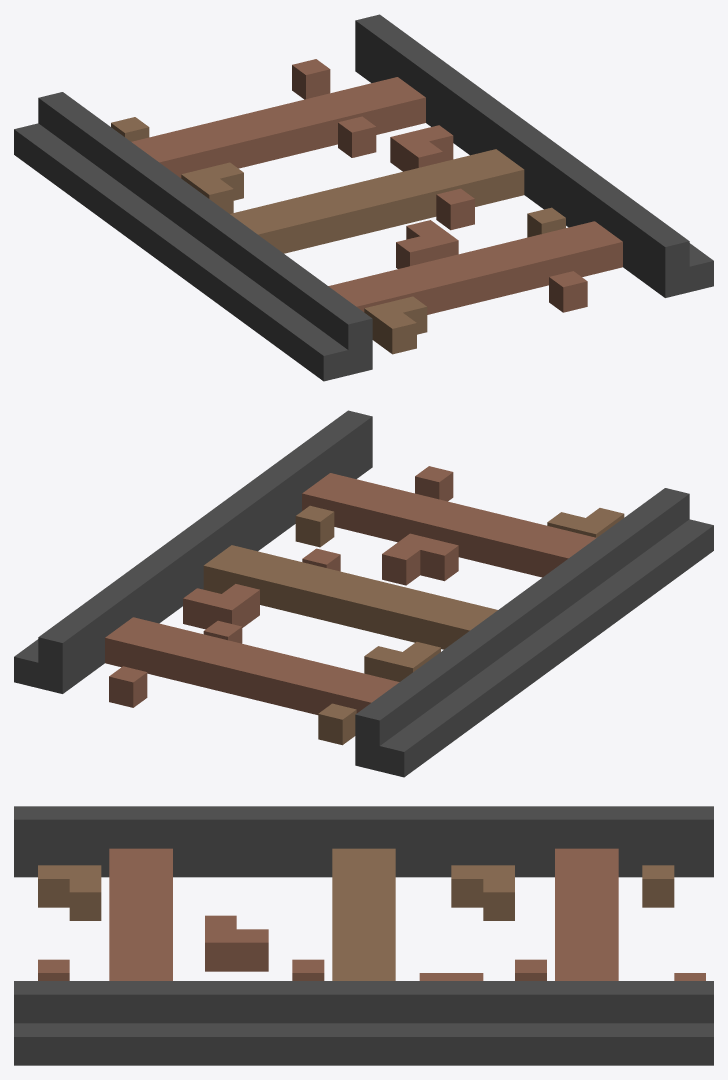
The model's file is RailStraight.fbx.
3 views of the same model, one above another, from view 1: azimuth 30°, elevation 25°; view 2: azimuth 150°, elevation 25°; view 3: azimuth 270°, elevation 25° (orthographic). The views are drawn at different scales.
Parts seen in each view (by area): view 1: Rails, Connectors; view 2: Rails, Connectors; view 3: Rails, Connectors.
Boxes of the visible parts, x1,y1,x2,y2 form: Rails: (14,14,713,381); Connectors: (111,59,622,354); Rails: (14,410,713,777); Connectors: (105,466,624,745); Rails: (14,806,713,1065); Connectors: (38,848,705,980).
Bounding box in the file's own units: 160 × 20 × 220.
